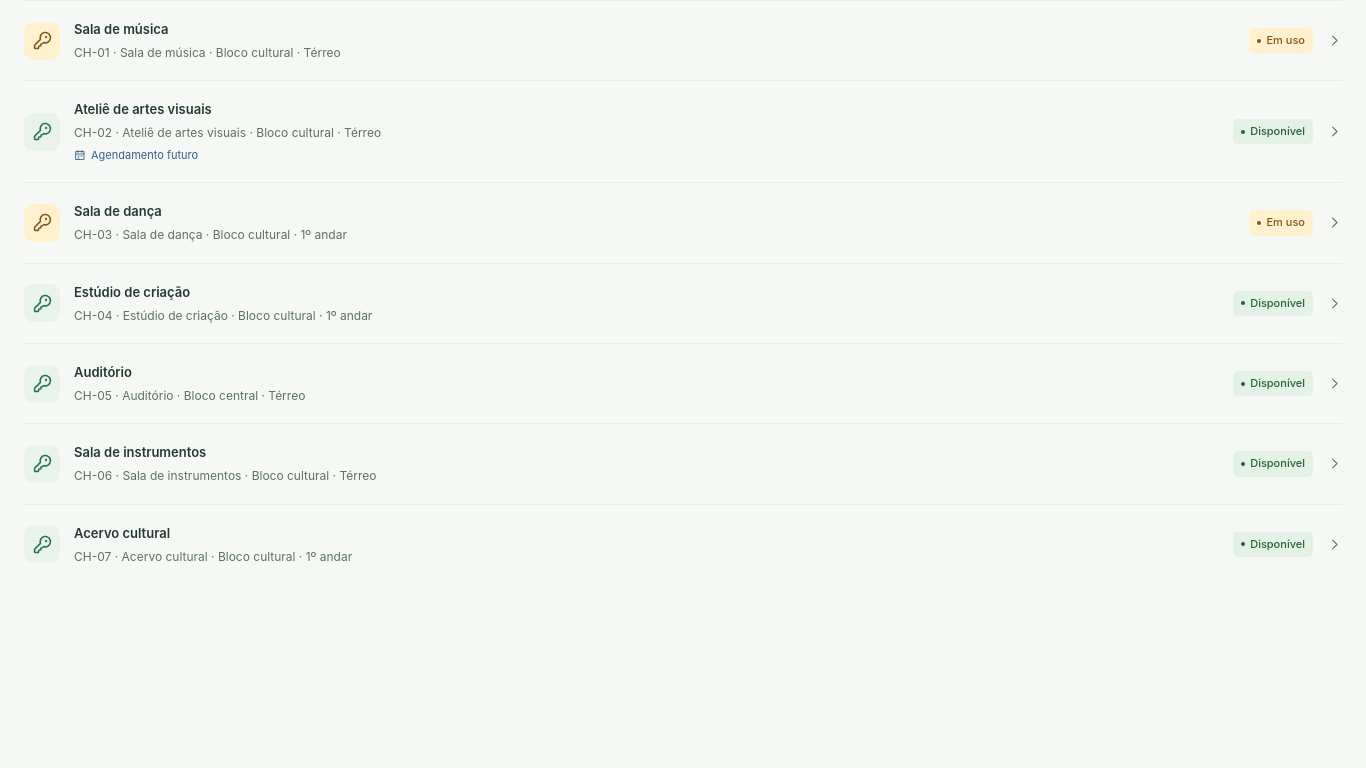
Scenario: transição entre detalhes e ações administrativas › fecha os detalhes antes de abrir Editar chave, preservando o acesso ao aviso de desfazer
What coordinates should you click on to do the following:
click the button with aria-label "Ver detalhes: Auditório"
I would click on:
 (42, 384)
Its box is [24,343,1342,423].
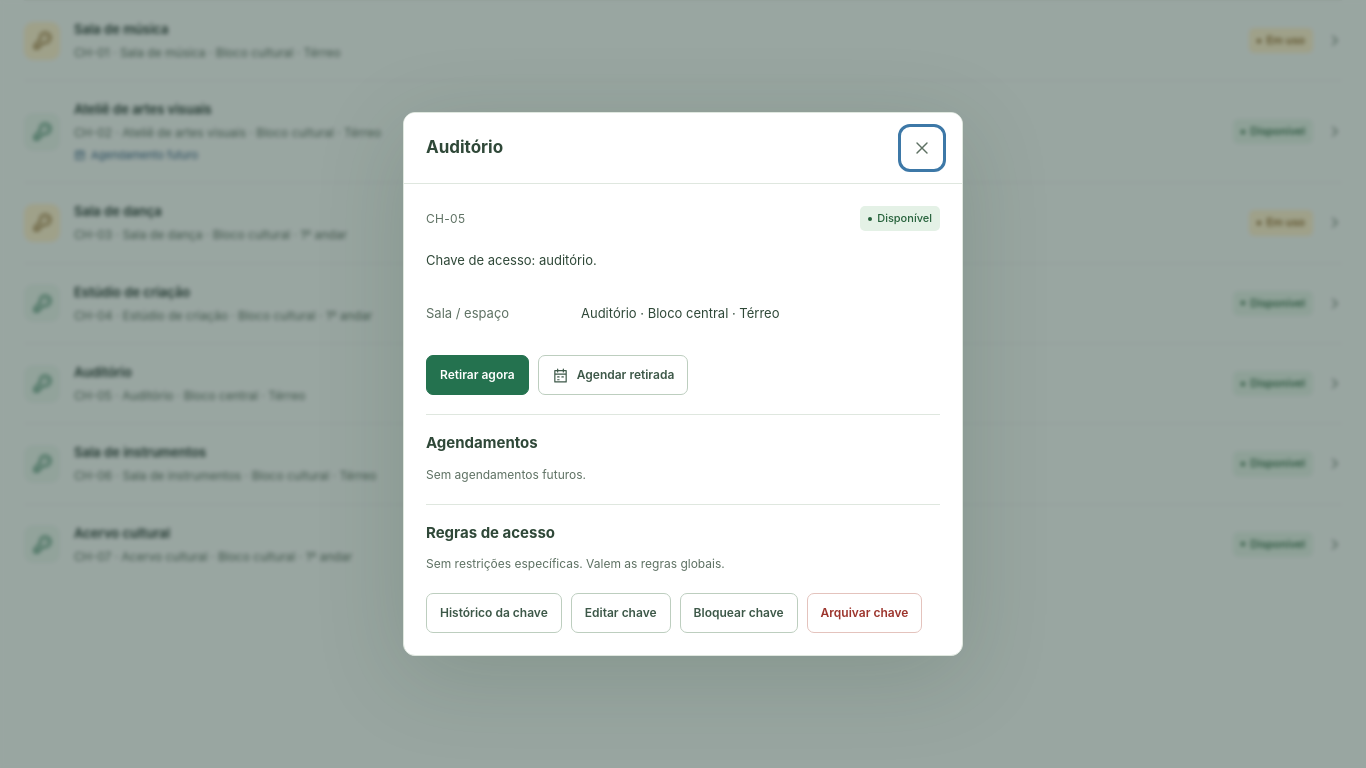
Expected: the dialog is shown, [403,112,963,656]
What coordinates should you click on to do the following:
click the button "Editar chave"
I would click on:
 (621, 613)
Its box is [571,593,671,633].
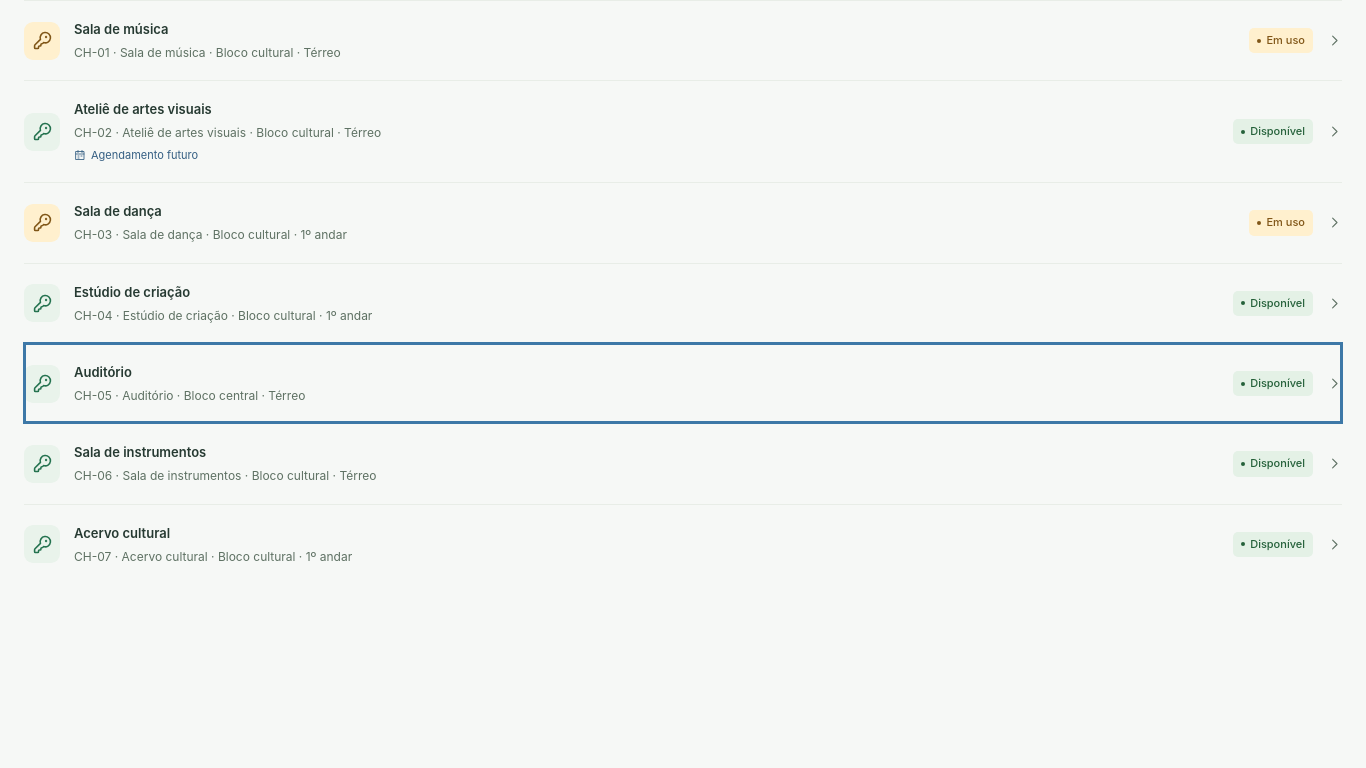
Expected: the dialog is gone
